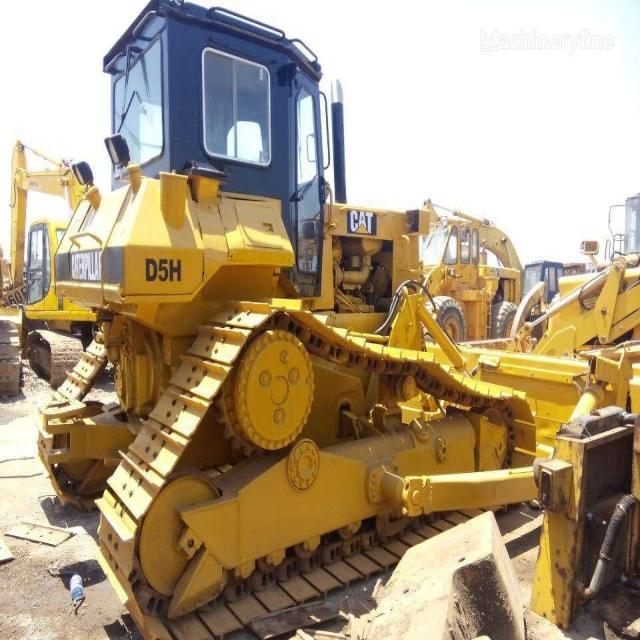buldozerpayloadergrader: (32, 2, 606, 620)
